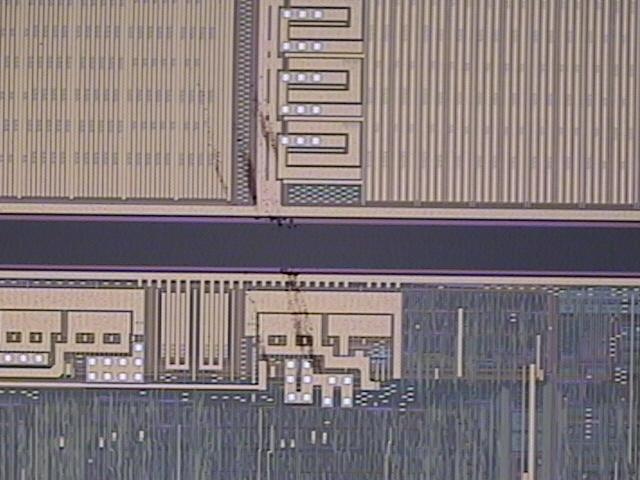SCRATCH: (189, 71, 327, 387)
